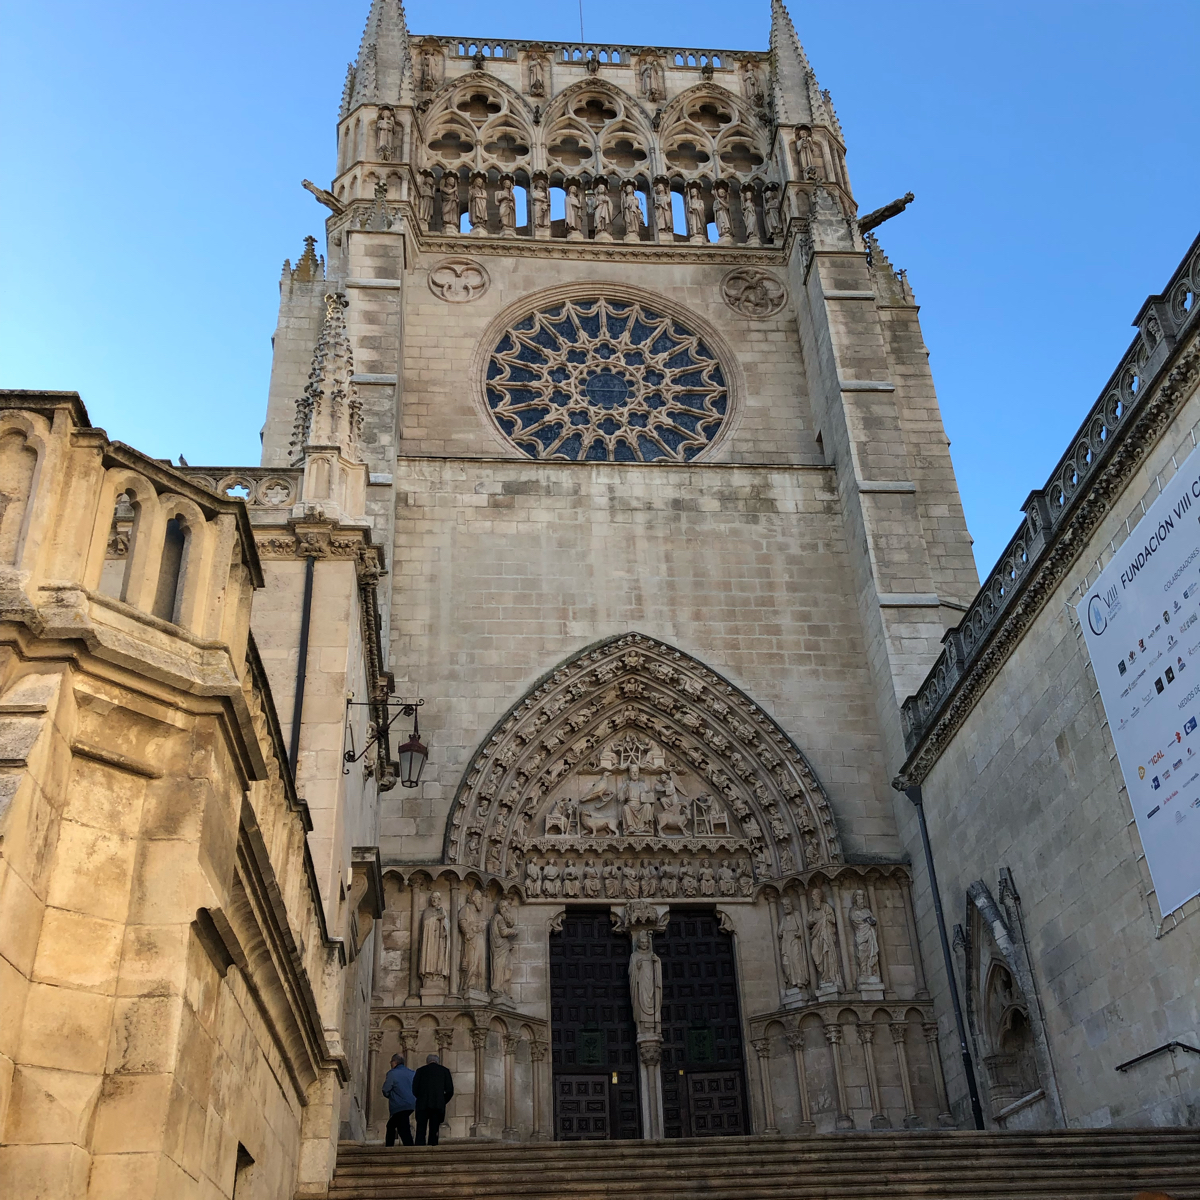arco-apuntado: (438, 622, 831, 854), (536, 69, 655, 155), (415, 69, 537, 146), (655, 77, 763, 155)
pinaculo-gotico: (285, 284, 363, 459)
